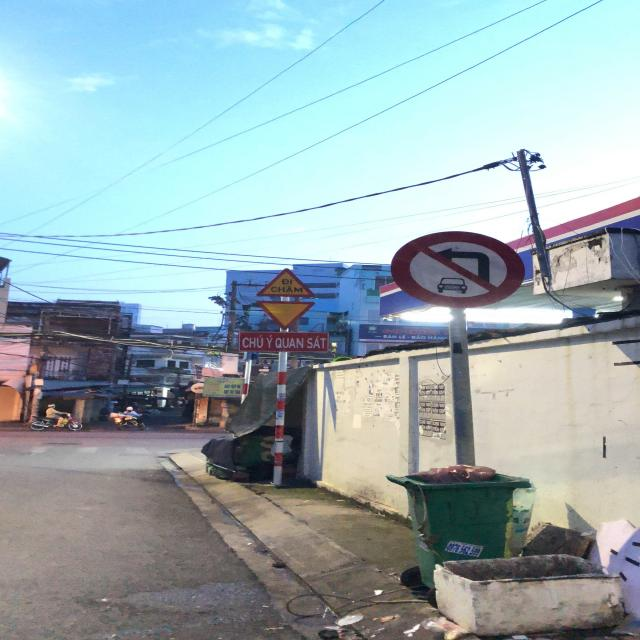Bien bao cam xe o to re trai: (392, 231, 529, 308)
Bien bao di cham: (253, 264, 320, 300)
Bien bao giao nhau voi duong uu tien: (248, 297, 316, 328)
